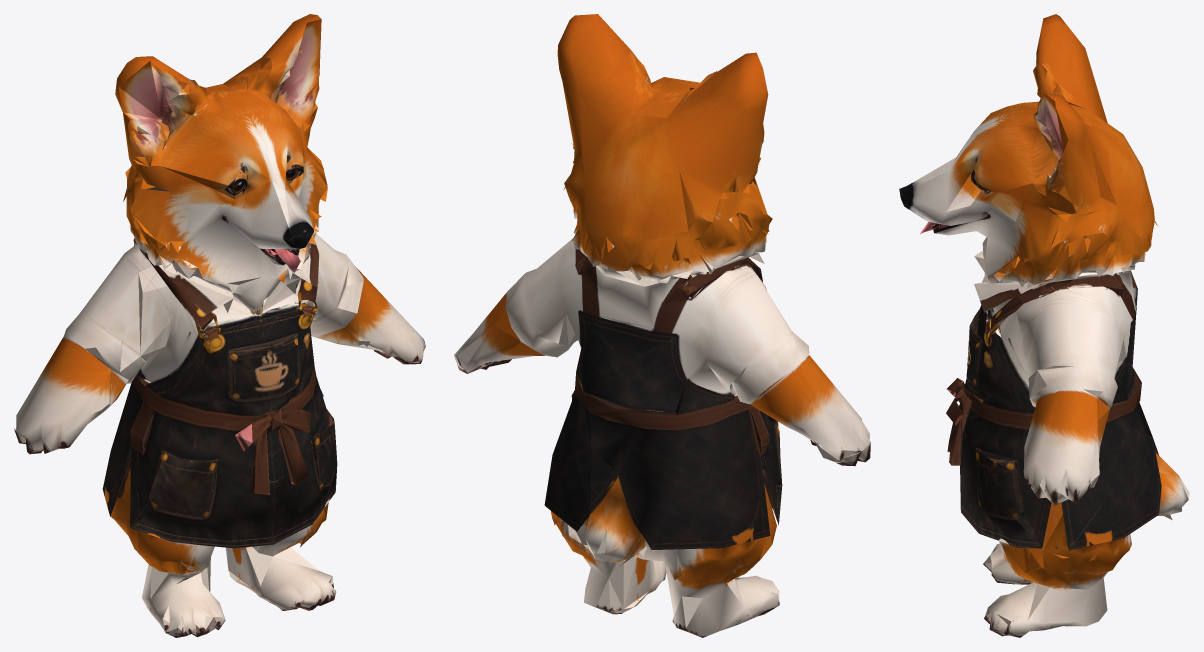
The model's file is corgi.glb.
3 renders of one model, left to right at view 1: azimuth 30°, elevation 25°; view 2: azimuth 150°, elevation 25°; view 3: azimuth 270°, elevation 25°, orthographic. The views are drawn at different scales.
Parts seen in each view (by area): view 1: output_unwrapped; view 2: output_unwrapped; view 3: output_unwrapped.
Part boxes in pixels (<box>): output_unwrapped: <box>14,14,425,637</box>; output_unwrapped: <box>454,14,870,637</box>; output_unwrapped: <box>899,14,1189,637</box>.
Bounding box in the file's own units: 0.0737 × 0.1 × 0.0481.
1 material, 1 textured.
